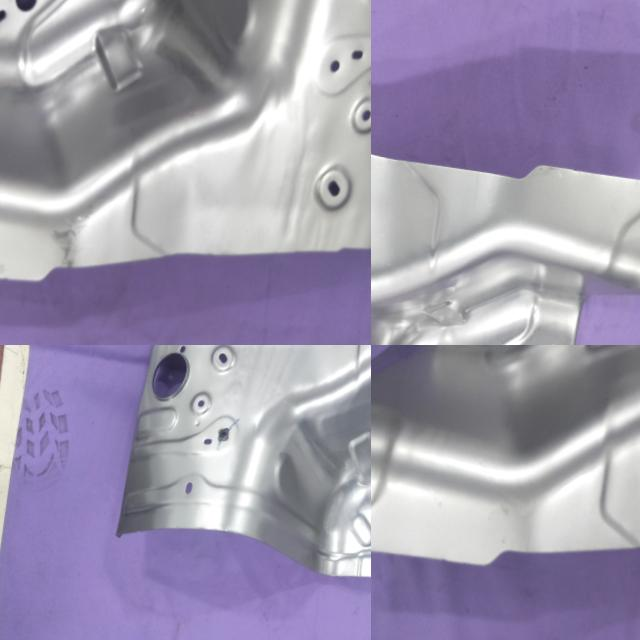Healthy: (111, 345, 371, 606), (371, 105, 640, 345)
rust: (0, 179, 102, 298)
